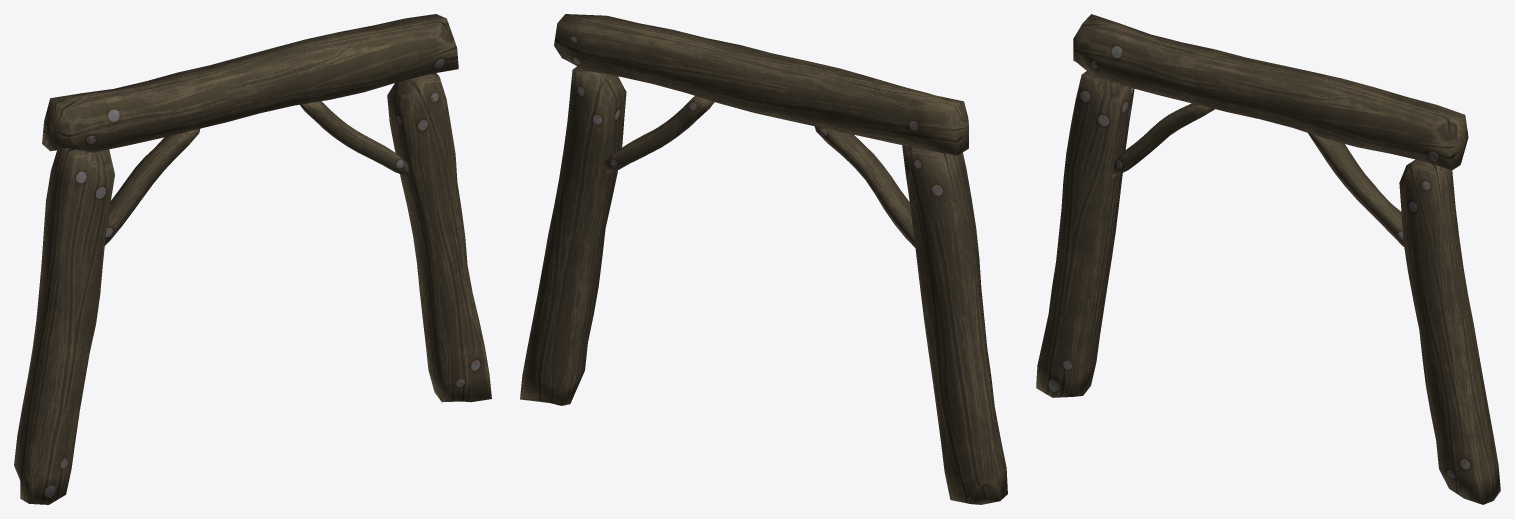
Rendered from BUI_RES_poutA.FBX.
3 renders of one model, left to right at view 1: azimuth 30°, elevation 25°; view 2: azimuth 150°, elevation 25°; view 3: azimuth 330°, elevation 25°, orthographic. The views are drawn at different scales.
Parts seen in each view (by area): view 1: BUI_RES_poutA_LOD0; view 2: BUI_RES_poutA_LOD0; view 3: BUI_RES_poutA_LOD0.
Boxes of the visible parts, bbox=[...] form: BUI_RES_poutA_LOD0: bbox=[14, 14, 491, 504]; BUI_RES_poutA_LOD0: bbox=[520, 14, 1007, 504]; BUI_RES_poutA_LOD0: bbox=[1036, 14, 1500, 504].
Size of what is drawn, in the model's own units: 477 by 388 by 44.82.
1 material, 1 textured.
